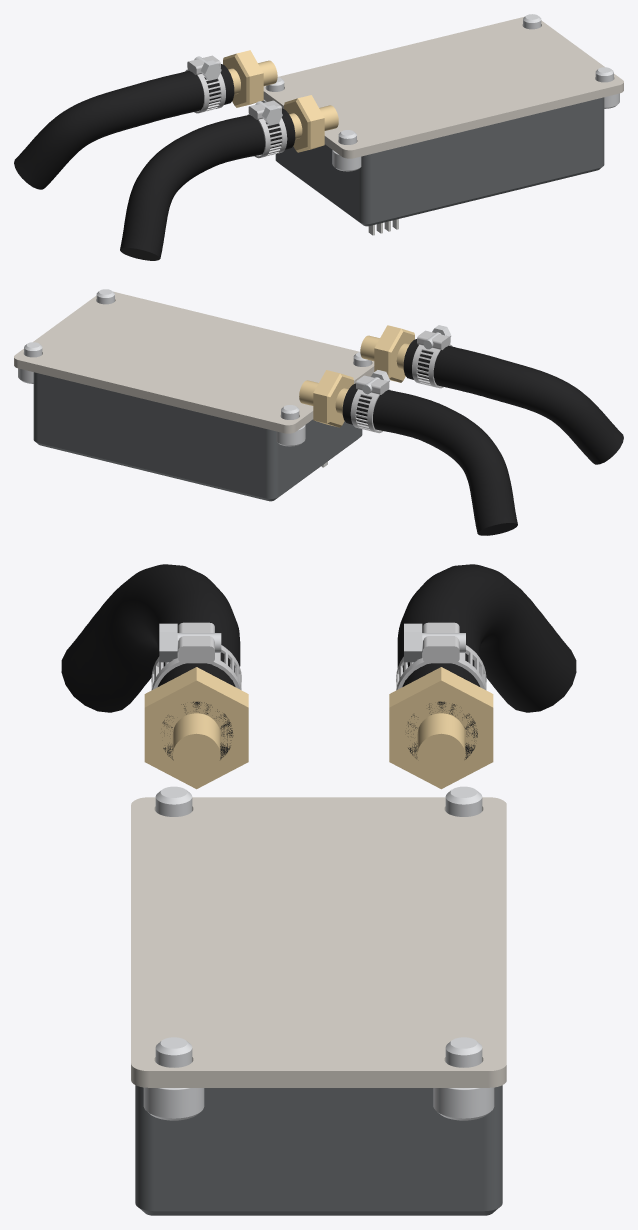
File: plumbing.glb
The picture shows the model from 3 angles, top to bottom: view 1: azimuth 30°, elevation 25°; view 2: azimuth 150°, elevation 25°; view 3: azimuth 270°, elevation 25°; orthographic projection. The views are drawn at different scales.
Visible parts, largest first — view 1: igbt_module, port_2, port_1; view 2: igbt_module, port_1, port_2; view 3: igbt_module, port_2, port_1.
Part boxes in pixels (x1,y1,x2,y2): igbt_module: [261, 14, 623, 235]; port_2: [14, 50, 277, 189]; port_1: [120, 95, 338, 260]; igbt_module: [14, 289, 374, 501]; port_1: [360, 325, 623, 464]; port_2: [299, 370, 517, 535]; igbt_module: [131, 786, 506, 1215]; port_2: [389, 564, 576, 789]; port_1: [61, 564, 248, 789].
Bounding box in the file's own units: 193 × 57.14 × 84.2.
